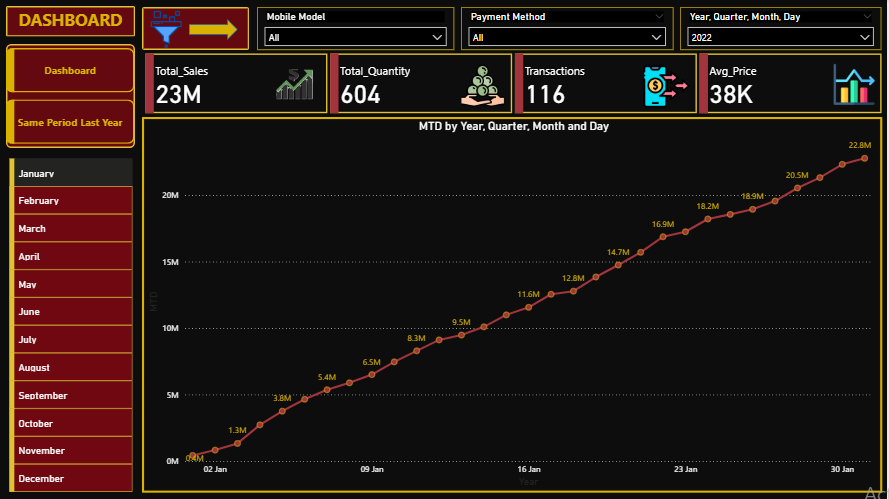

The dashboard page shown, as its layout file describes it:
{"tool":"powerbi","page":{"name":"MTD Report","canvas":[1280,720],"ordinal":1},"visuals":[{"type":"shape","box":[9.6,8.3,185.8,44],"z":0},{"type":"shape","box":[10.1,63.4,185.8,149.8],"z":1000},{"type":"cardVisual","fields":{"Data":["Mobile_sales_data.Total_Sales","Mobile_sales_data.Total_Quantity","Mobile_sales_data.Transactions","Mobile_sales_data.Avg_Price"]},"box":[206.5,71.6,1073.5,96.3],"z":2000},{"type":"slicer","fields":{"Values":["Mobile_sales_data.Mobile Model"]},"box":[371.6,9.6,283.5,61.9],"z":3000},{"type":"slicer","fields":{"Values":["Mobile_sales_data.Payment Method"]},"box":[664.8,9.6,305.5,61.9],"z":4000},{"type":"slicer","fields":{"Values":["Custom_calendar.Date.Variation.Date Hierarchy.Year","Custom_calendar.Date.Variation.Date Hierarchy.Quarter","Custom_calendar.Date.Variation.Date Hierarchy.Month","Custom_calendar.Date.Variation.Date Hierarchy.Day"]},"box":[980,9.6,290.4,61.9],"z":5000},{"type":"shape","box":[206.5,9.6,154.2,61.9],"z":6000},{"type":"image","box":[196.8,9.6,86.7,64.7],"z":7000},{"type":"shape","box":[273.9,27.5,70.2,30.3],"z":8000},{"type":"textbox","box":[23.4,5.5,159.7,48.2],"z":9000},{"type":"lineChart","fields":{"Y":["Mobile_sales_data.MTD"],"Category":["Custom_calendar.Date.Variation.Date Hierarchy.Year","Custom_calendar.Date.Variation.Date Hierarchy.Quarter","Custom_calendar.Date.Variation.Date Hierarchy.Month","Custom_calendar.Date.Variation.Date Hierarchy.Day"]},"box":[205.9,168.5,1065.6,541.4],"z":10000},{"type":"advancedSlicerVisual","fields":{"Values":["Custom_calendar.Date.Variation.Date Hierarchy.Month"]},"box":[10.1,223.2,187.2,496.8],"z":11000},{"type":"pageNavigator","box":[10.1,69.1,185.8,138.2],"z":12000}]}

Visuals, with their boxes in screenshot pixels (x1, y1, x2, y2), scaled from the page's 1280x720 canvas onto the 889x499 screenshot:
shape: rect(7, 6, 136, 36)
shape: rect(7, 44, 136, 148)
cardVisual - Mobile_sales_data.Total_Sales x Mobile_sales_data.Total_Quantity: rect(143, 50, 888, 116)
slicer - Mobile_sales_data.Mobile Model: rect(258, 7, 455, 50)
slicer - Mobile_sales_data.Payment Method: rect(462, 7, 674, 50)
slicer - Custom_calendar.Date.Variation.Date Hierarchy.Year x Custom_calendar.Date.Variation.Date Hierarchy.Quarter: rect(681, 7, 882, 50)
shape: rect(143, 7, 251, 50)
image: rect(137, 7, 197, 51)
shape: rect(190, 19, 239, 40)
textbox: rect(16, 4, 127, 37)
lineChart - Mobile_sales_data.MTD x Custom_calendar.Date.Variation.Date Hierarchy.Year: rect(143, 117, 883, 492)
advancedSlicerVisual - Custom_calendar.Date.Variation.Date Hierarchy.Month: rect(7, 155, 137, 498)
pageNavigator: rect(7, 48, 136, 144)
